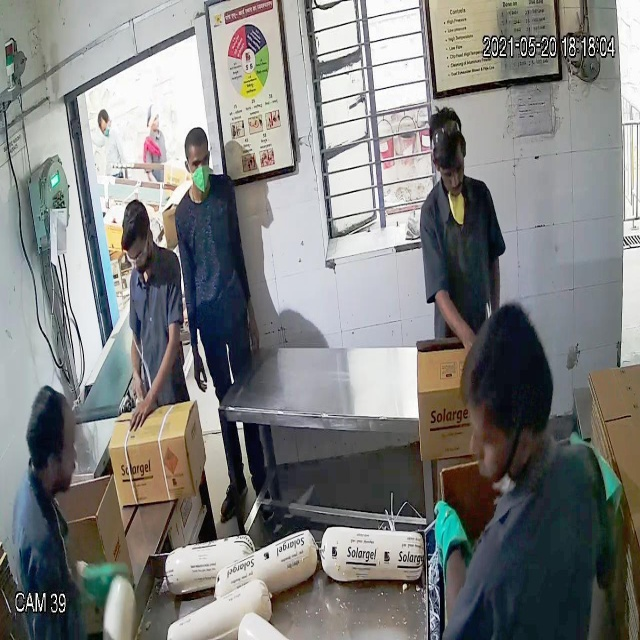Gafas: (119, 243, 152, 268)
Sin_gafas: (432, 154, 473, 181), (183, 152, 214, 177)
